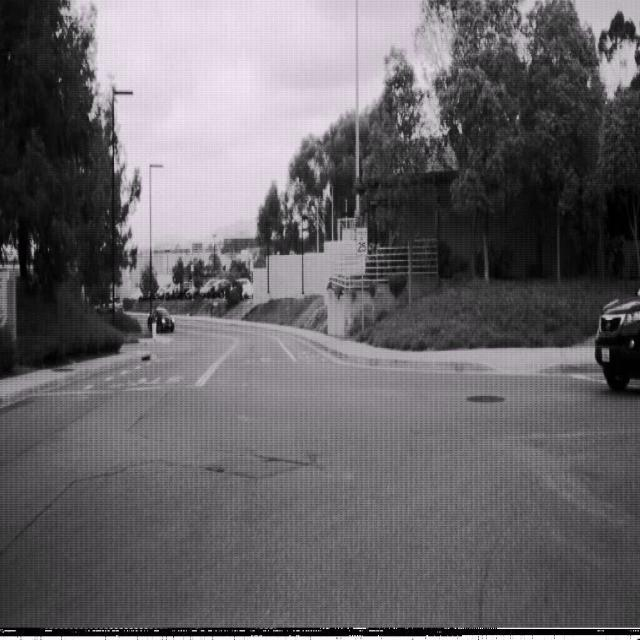speedLimit25: (355, 226, 367, 256)
